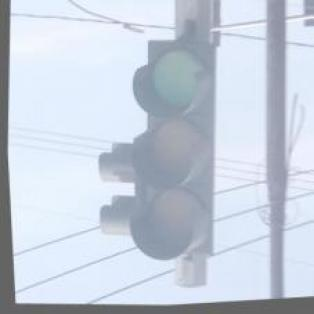Semaforo Verde: (117, 40, 227, 268)
